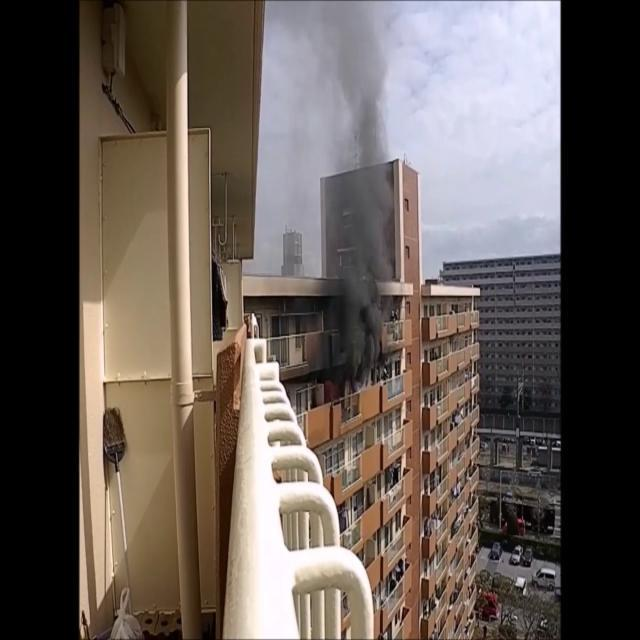Smoke: (319, 4, 397, 380)
